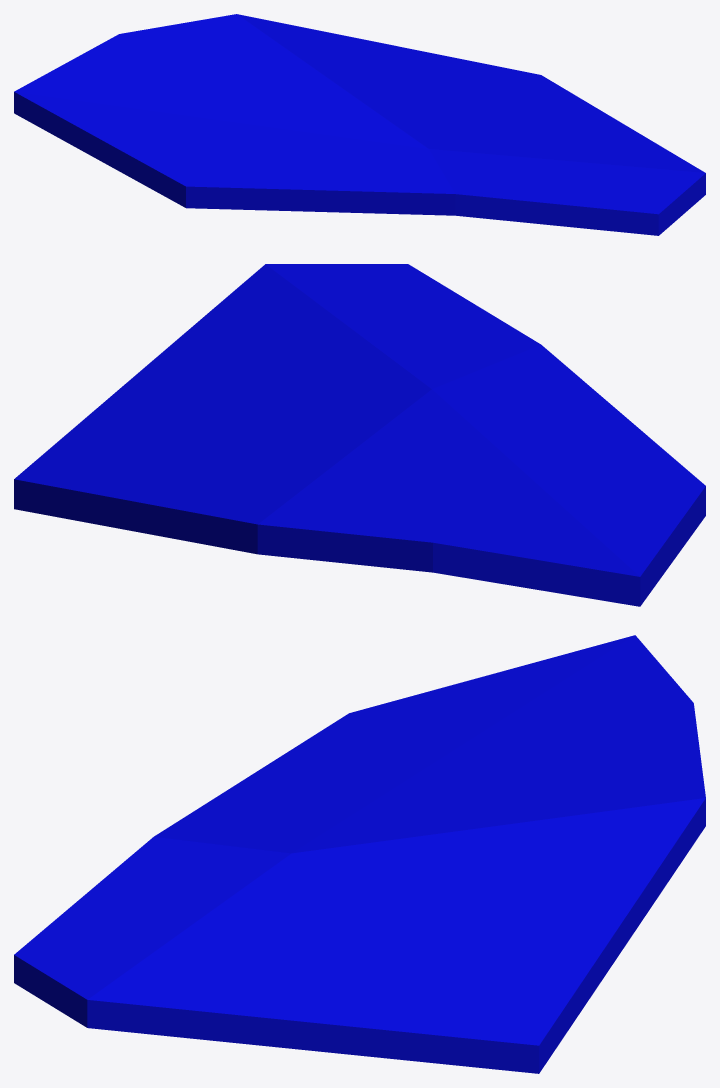
File: komon30.fbx
3 views of the same model, one above another, from view 1: azimuth 30°, elevation 25°; view 2: azimuth 150°, elevation 25°; view 3: azimuth 270°, elevation 25° (orthographic). The views are drawn at different scales.
Visible parts, largest first — view 1: Cube.007; view 2: Cube.007; view 3: Cube.007.
Boxes of the visible parts, x1,y1,x2,y2 form: Cube.007: [14, 14, 705, 235]; Cube.007: [14, 264, 705, 606]; Cube.007: [14, 635, 705, 1073].
Size of the model in its own units: 408 by 85.63 by 383.
